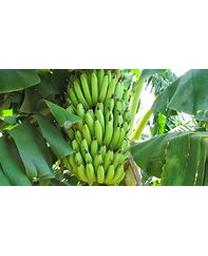banana: (59, 70, 137, 185)
